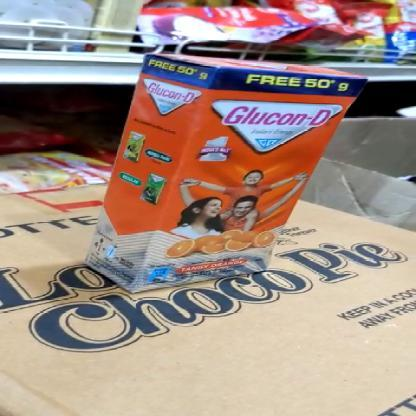Glucon D Tangy orange 1-KG: (155, 67, 346, 284)
